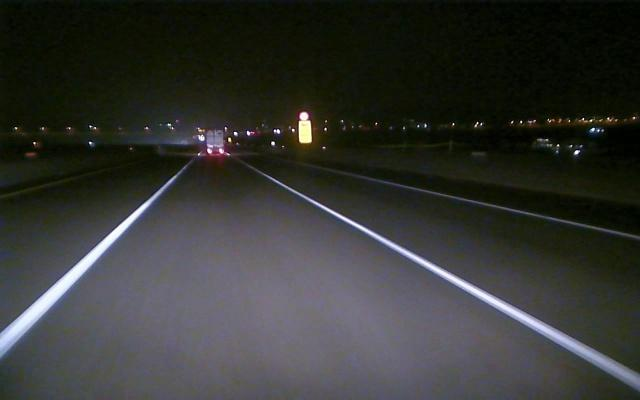lane: (260, 172, 636, 389), (3, 178, 173, 356), (350, 173, 637, 241), (0, 166, 127, 201)
